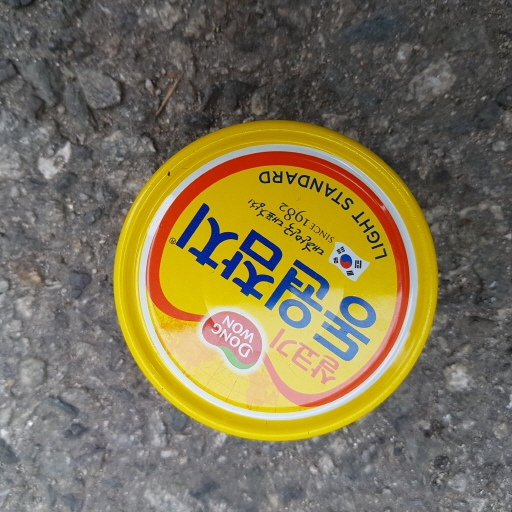Metal_1: (108, 116, 438, 447)
